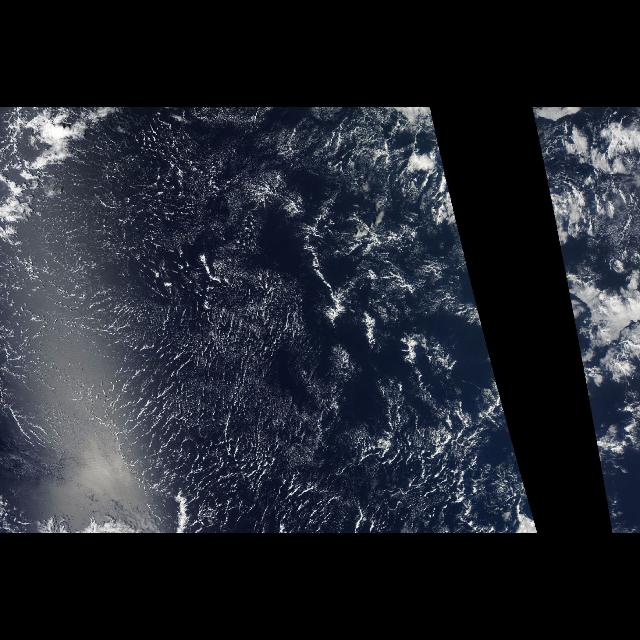Gravel: (101, 408, 518, 532), (305, 112, 457, 310), (68, 134, 212, 286)
Sugar: (68, 132, 346, 488)
